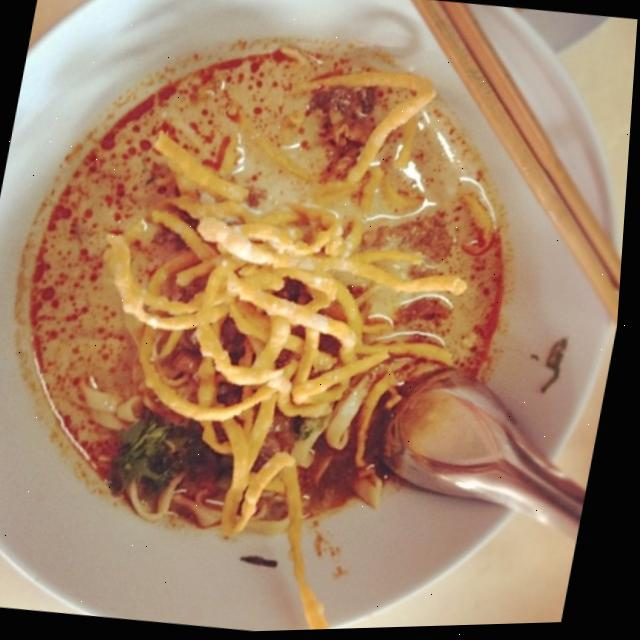面条主食: (0, 0, 597, 618)
